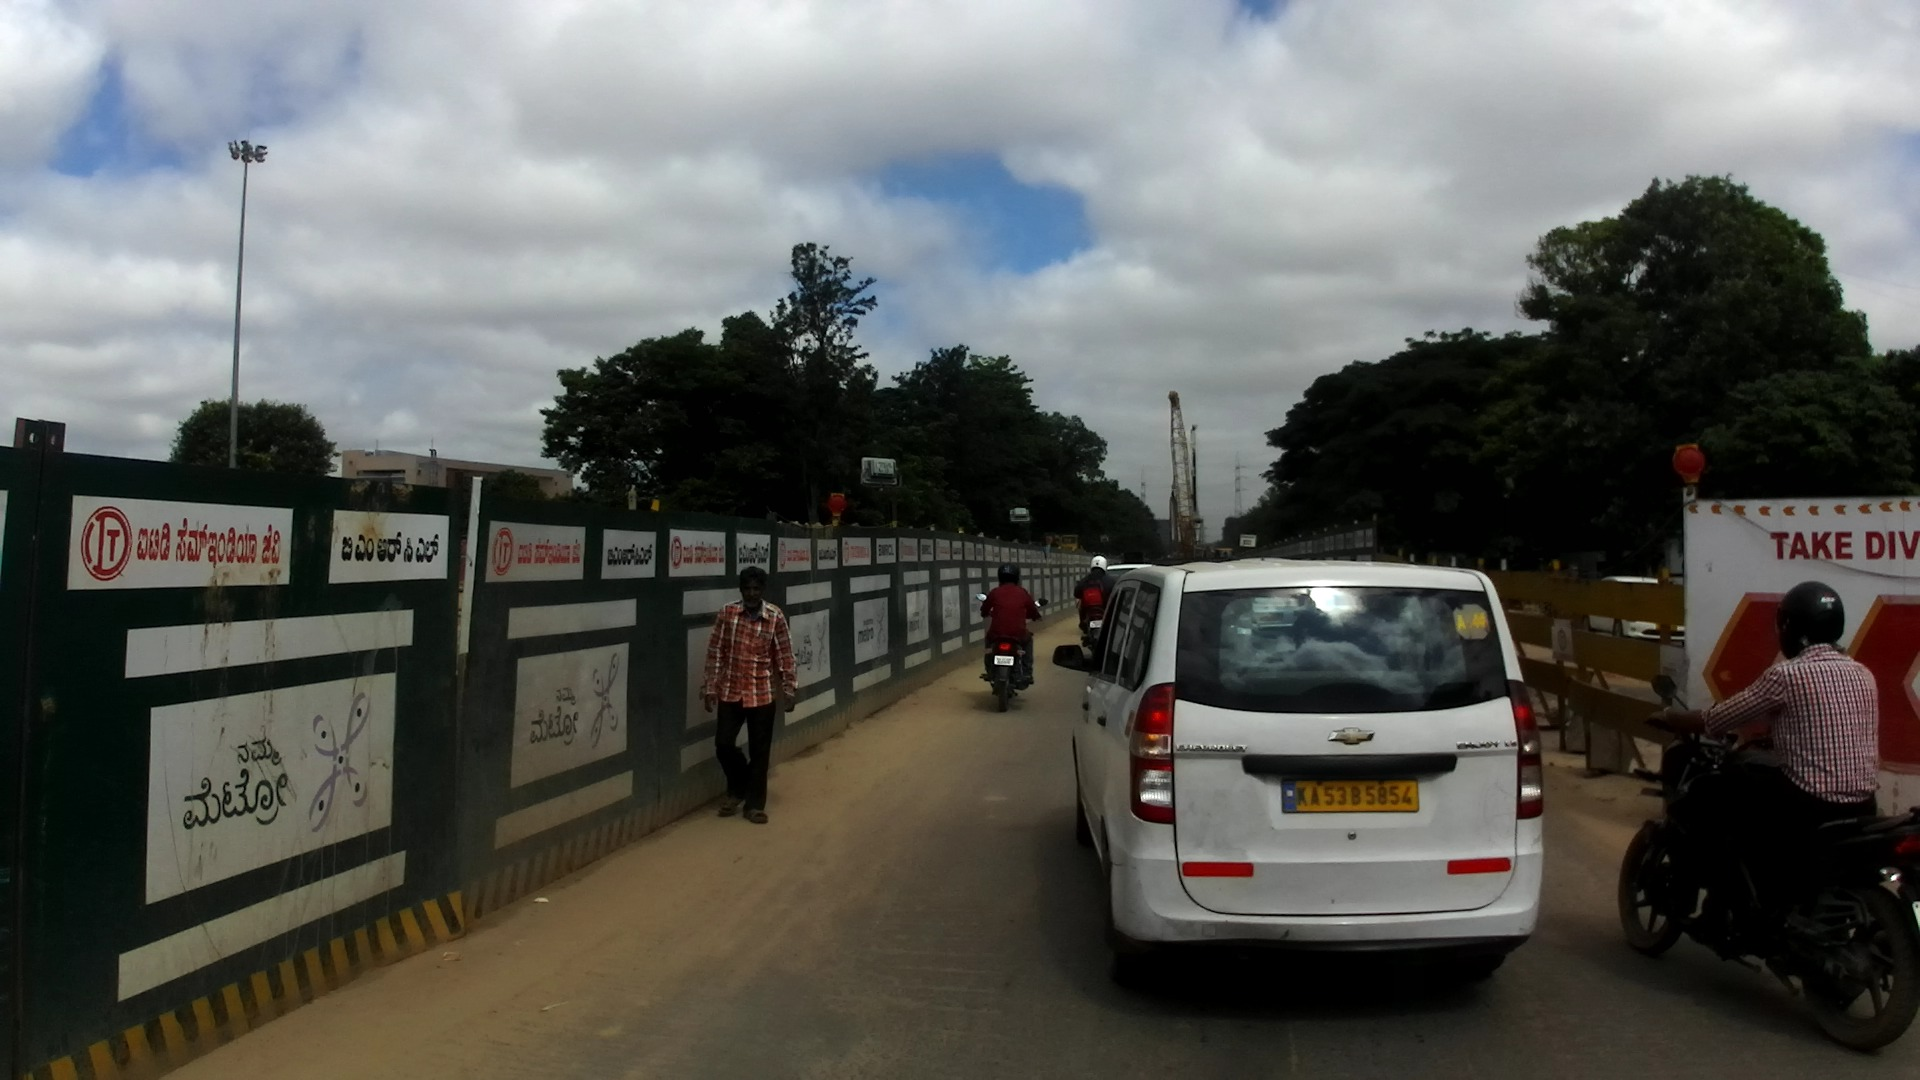bus: (1057, 534, 1084, 550)
car: (1052, 557, 1549, 1003), (1587, 575, 1686, 641), (1106, 562, 1153, 581)
motorcycle: (1620, 674, 1920, 1055), (975, 592, 1048, 712), (1074, 583, 1105, 652)
person: (702, 568, 804, 828)
rider: (1655, 583, 1881, 941), (980, 563, 1037, 689), (1073, 555, 1112, 645)
truck: (1122, 550, 1142, 563)
vehicle fallback: (1213, 546, 1235, 558)
